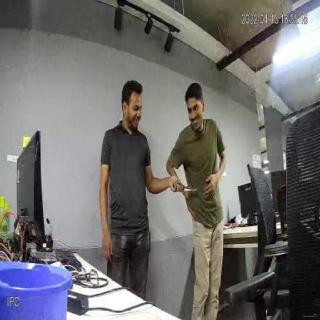knife: (178, 182, 198, 200)
